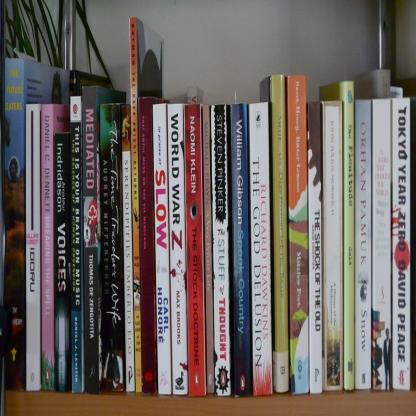book: (6, 15, 414, 389), (391, 96, 410, 390)
